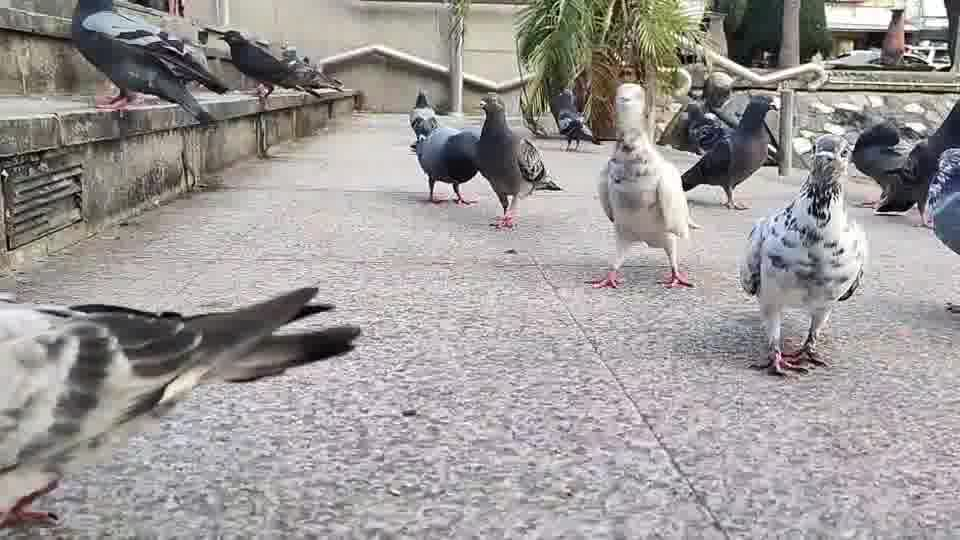Pigeon: (0, 283, 361, 529), (738, 133, 866, 376), (588, 82, 695, 290), (70, 0, 228, 125), (850, 97, 959, 227), (474, 93, 564, 231), (680, 93, 779, 210), (217, 29, 345, 102), (407, 87, 481, 205), (925, 146, 959, 312), (548, 86, 601, 152), (407, 87, 439, 149)
